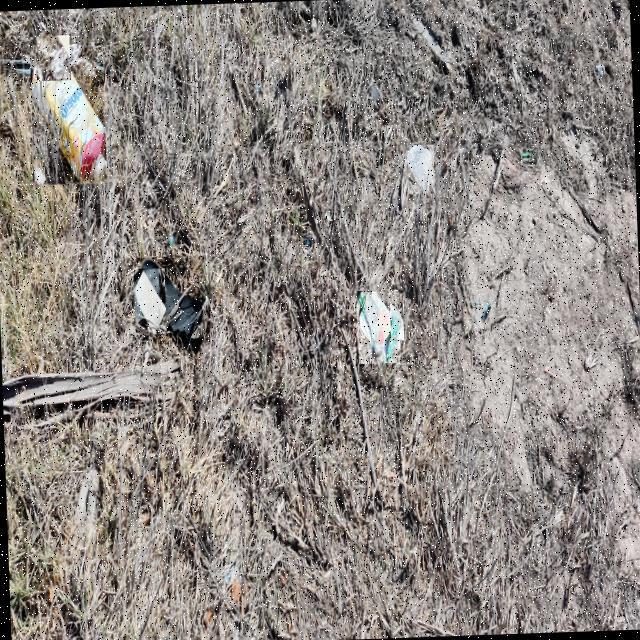Clear plastic bottle: (407, 145, 434, 192)
Other plastic container: (32, 45, 106, 182)
Plastic bottle cap: (34, 160, 45, 184)
Squeezable tube: (357, 292, 400, 363)
Unlabeled litter: (138, 258, 207, 342), (135, 269, 166, 334), (37, 36, 70, 80), (389, 304, 404, 340), (481, 301, 491, 323), (225, 564, 234, 583), (168, 237, 175, 257), (522, 152, 531, 157), (472, 300, 475, 302)
